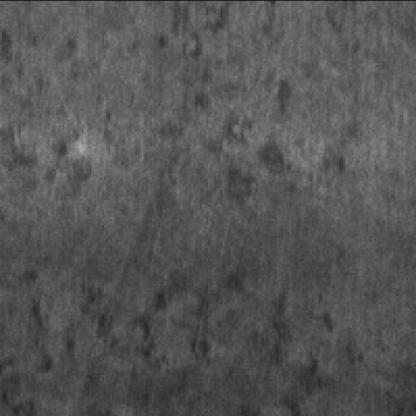rolled-in_scale: (3, 277, 341, 416), (6, 94, 196, 210), (191, 73, 354, 208)
